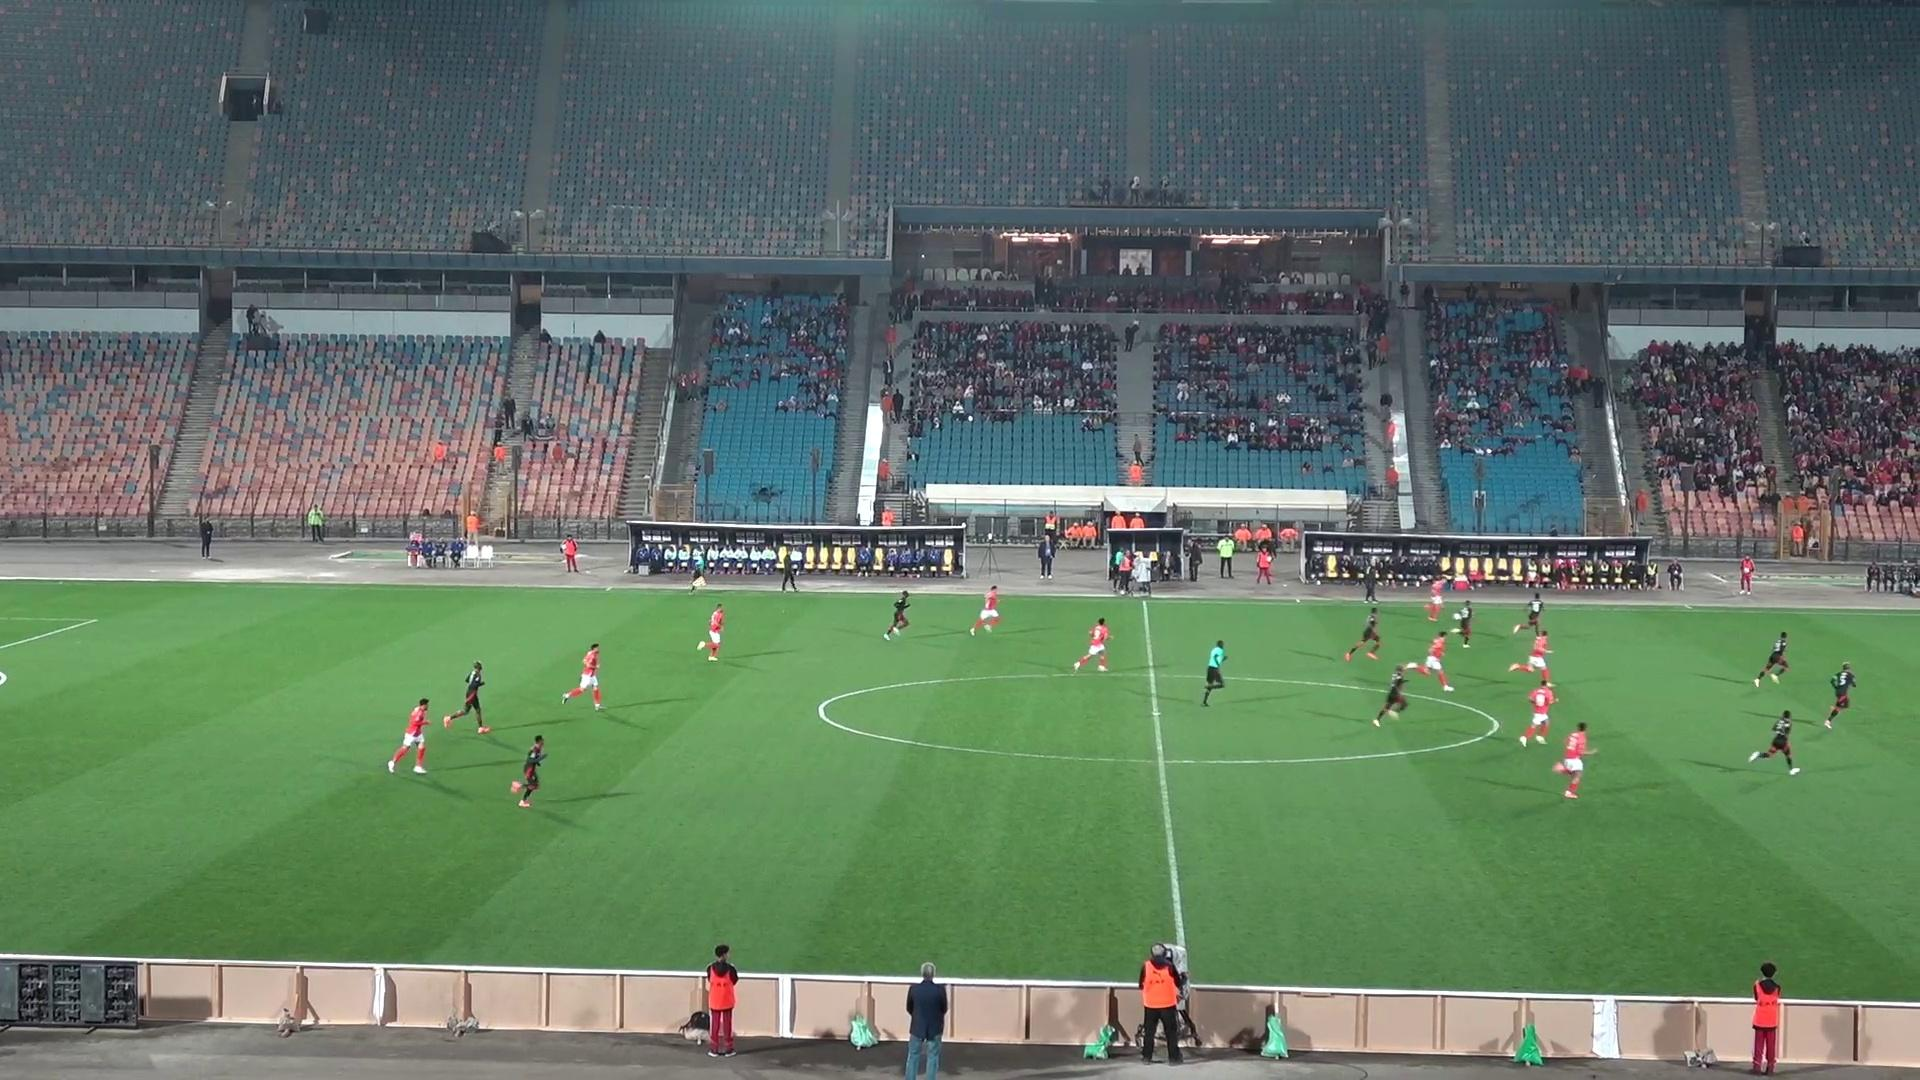Ball: (1451, 604, 1472, 636)
Refree: (1200, 640, 1226, 705), (687, 547, 709, 592)
Team1: (386, 698, 430, 774), (1553, 723, 1594, 799), (1403, 630, 1453, 690), (1518, 670, 1556, 746), (563, 644, 603, 709), (1072, 618, 1112, 673), (1509, 632, 1549, 680), (698, 605, 724, 661), (971, 585, 1000, 636), (1425, 575, 1448, 621)
Team2: (444, 661, 491, 735), (1750, 709, 1797, 774), (1371, 665, 1414, 727), (512, 736, 547, 807), (1822, 662, 1855, 729), (1753, 632, 1789, 686), (1345, 607, 1381, 661), (1511, 593, 1544, 634), (882, 592, 910, 640), (1448, 601, 1476, 647)
